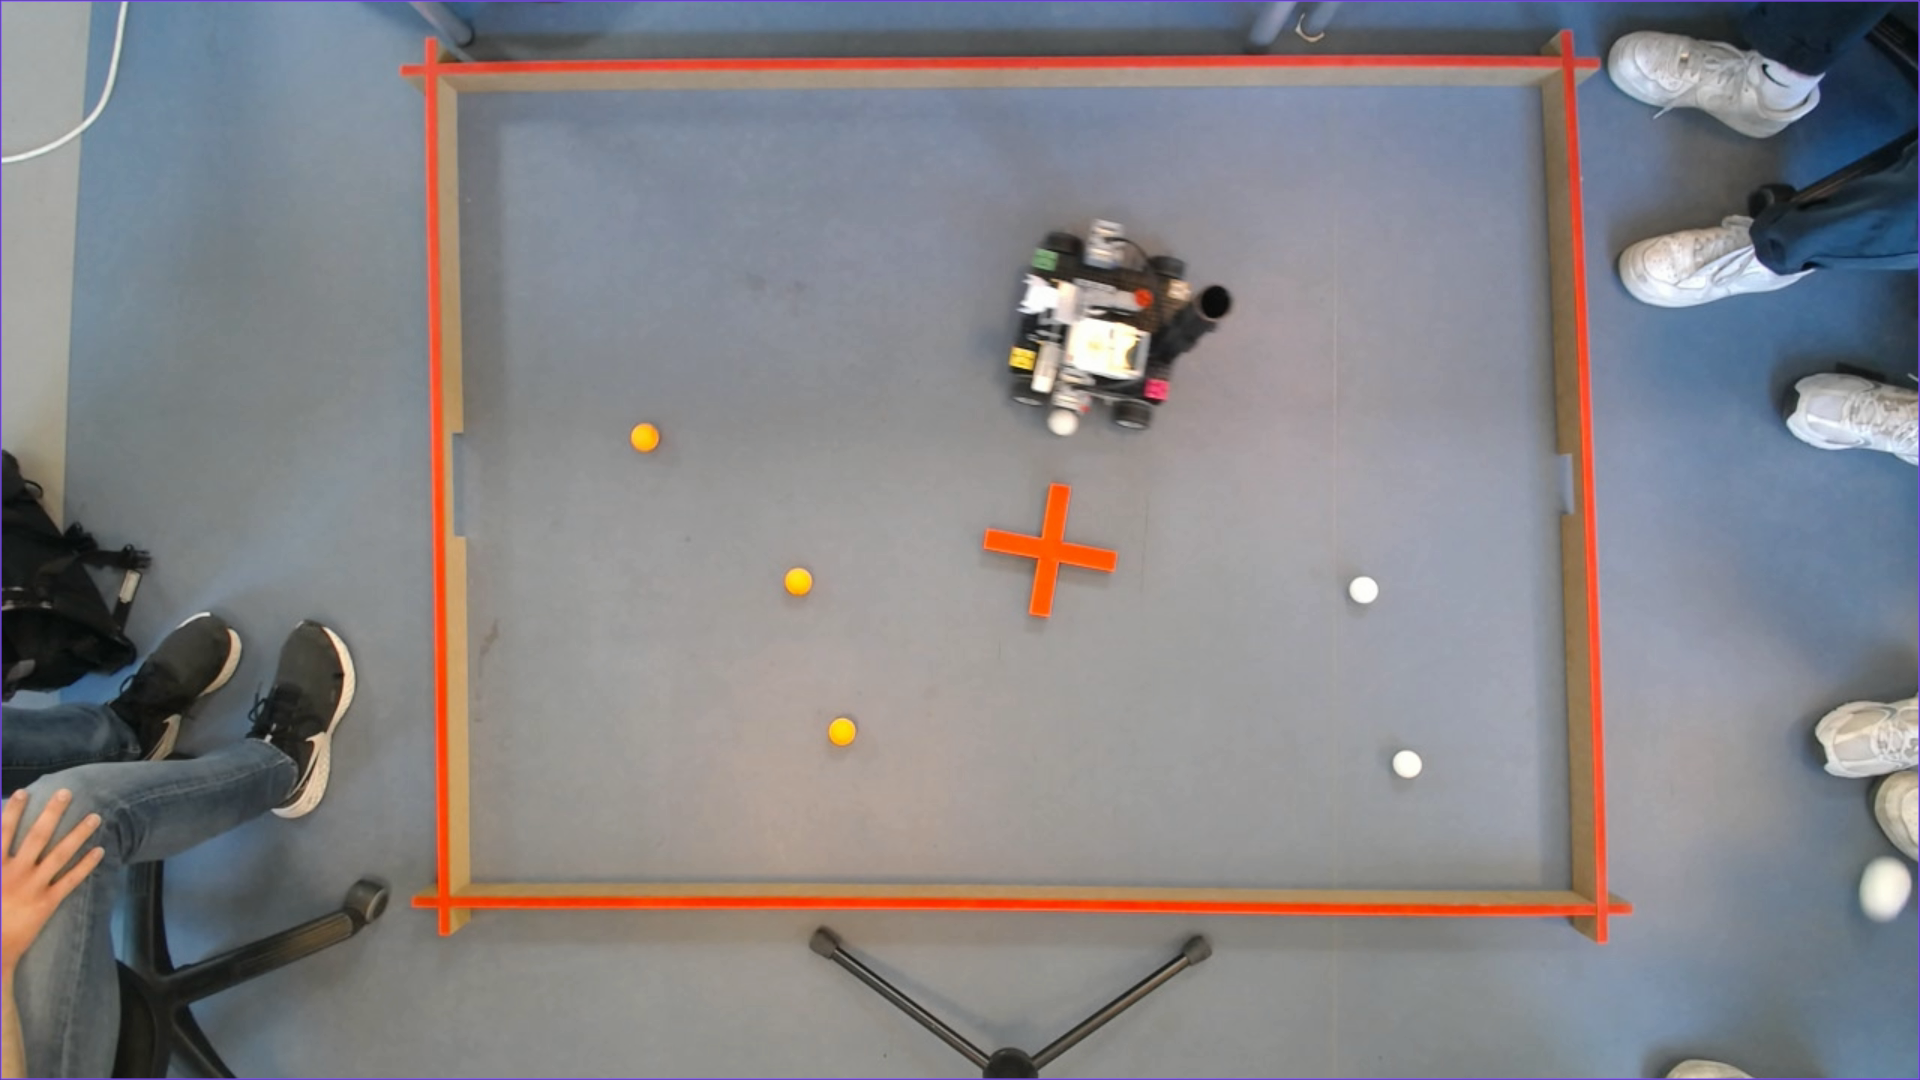ball_orange: (630, 423, 661, 454), (785, 567, 814, 596), (828, 717, 856, 746)
ball_white: (1047, 409, 1077, 436), (1393, 750, 1422, 778), (1349, 576, 1379, 603)
corner_brown: (1167, 280, 1193, 301)
corner_green: (1031, 248, 1058, 272)
corner_pink: (1145, 378, 1170, 400)
corner_yellow: (1009, 347, 1036, 371)
cross: (984, 483, 1118, 617)
egg: (1858, 856, 1911, 922)
playfield: (425, 55, 1609, 915)
